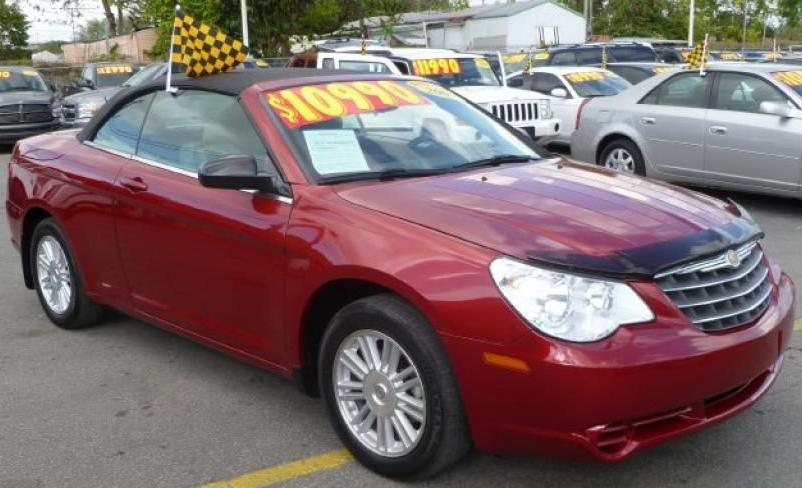front_view: (491, 215, 795, 440)
headlight: (480, 244, 657, 352)
side_glass: (77, 79, 304, 202)
